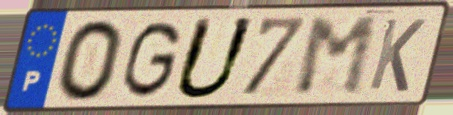7: (239, 15, 310, 101)
G: (119, 18, 185, 101)
K: (365, 16, 429, 95)
M: (292, 14, 381, 100)
O: (54, 17, 127, 104)
U: (169, 15, 260, 103)
